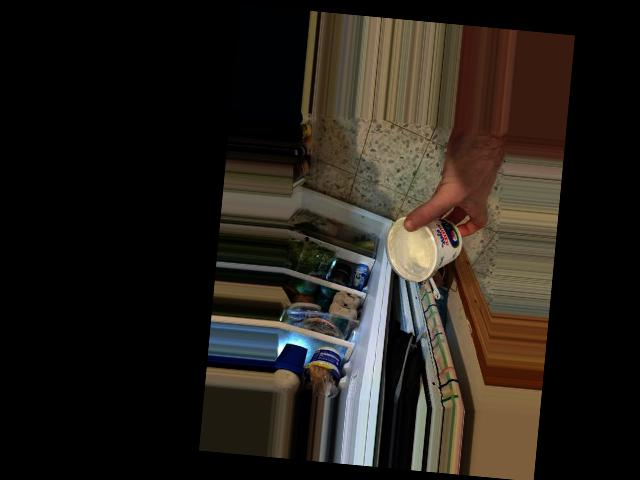cotage: (383, 203, 472, 288)
